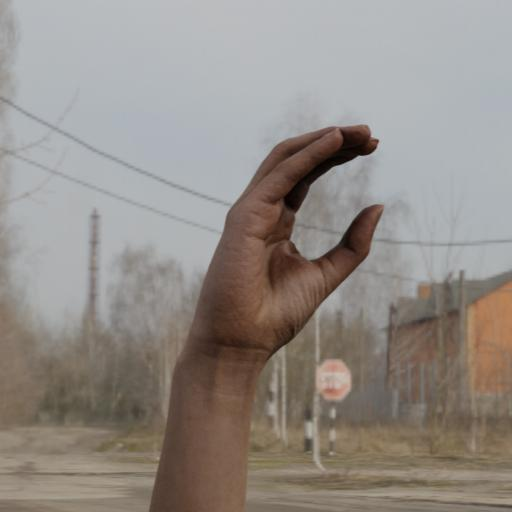C: (170, 117, 401, 379)
